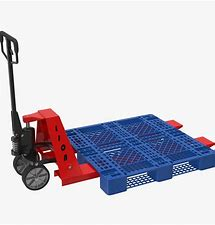Pallet Jack: (1, 29, 214, 197)
